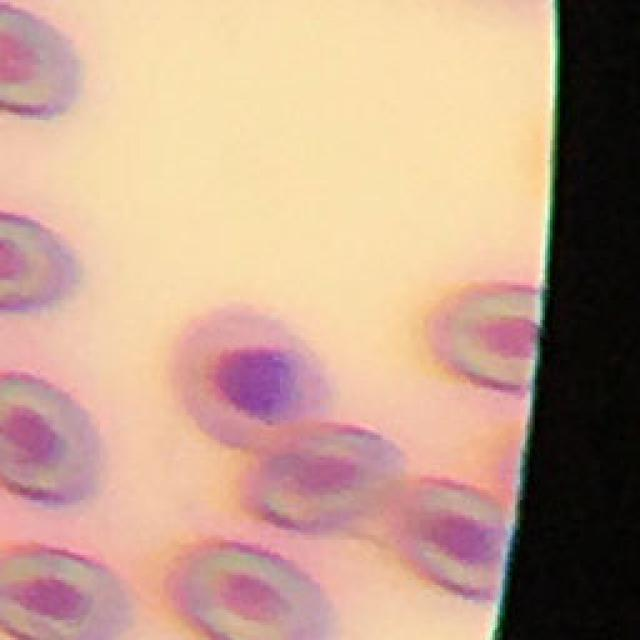RBC: (170, 304, 341, 448), (240, 421, 411, 540), (168, 543, 336, 640), (392, 474, 511, 600), (0, 371, 106, 508), (419, 280, 540, 394), (0, 545, 132, 640), (0, 3, 79, 122), (0, 210, 81, 311)
